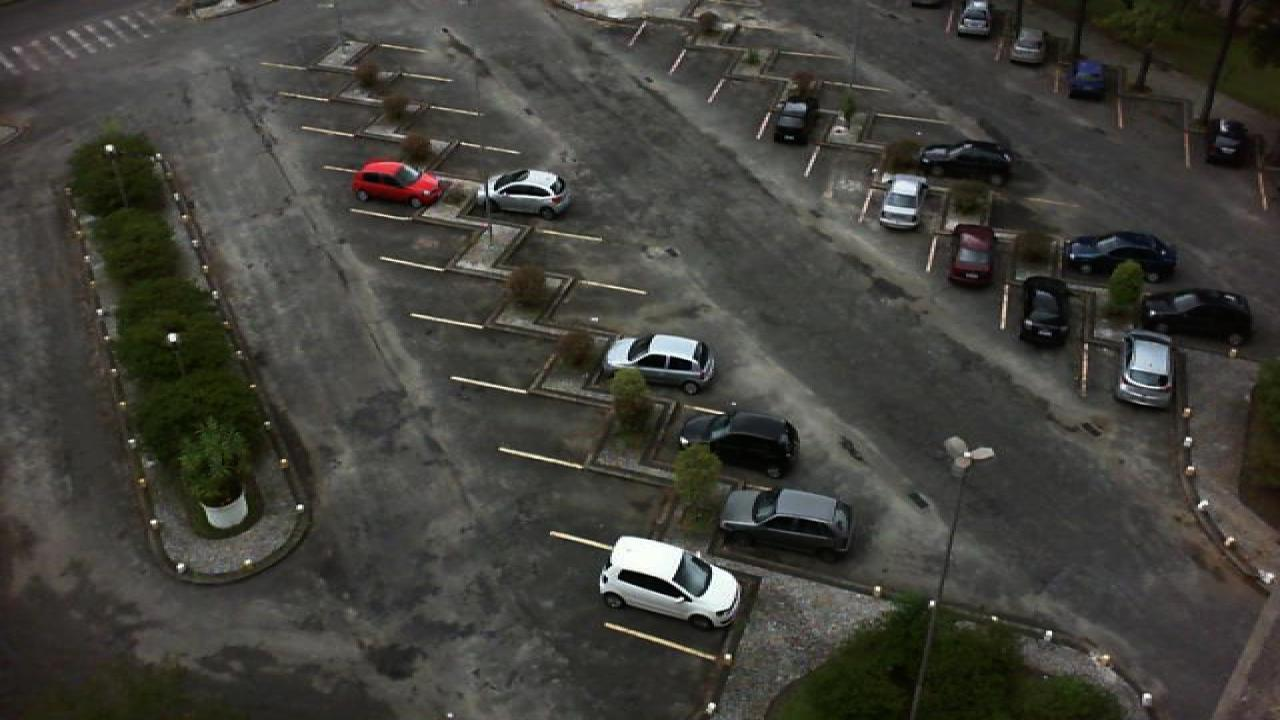Car: (596, 534, 746, 632), (716, 485, 854, 561), (678, 410, 800, 480), (600, 331, 718, 395), (1140, 288, 1254, 348), (1060, 228, 1180, 284), (1114, 328, 1178, 410), (350, 157, 444, 207), (916, 138, 1016, 184), (482, 168, 572, 218), (1016, 276, 1072, 348), (946, 223, 1002, 287), (874, 172, 928, 231), (1204, 117, 1254, 168), (770, 98, 814, 145), (1066, 57, 1110, 99), (1008, 27, 1048, 65), (954, 0, 994, 38)
